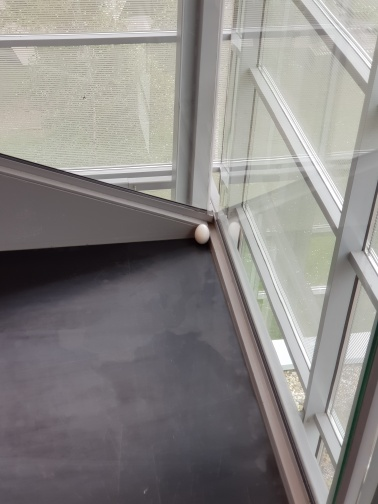egg: (192, 222, 211, 244)
